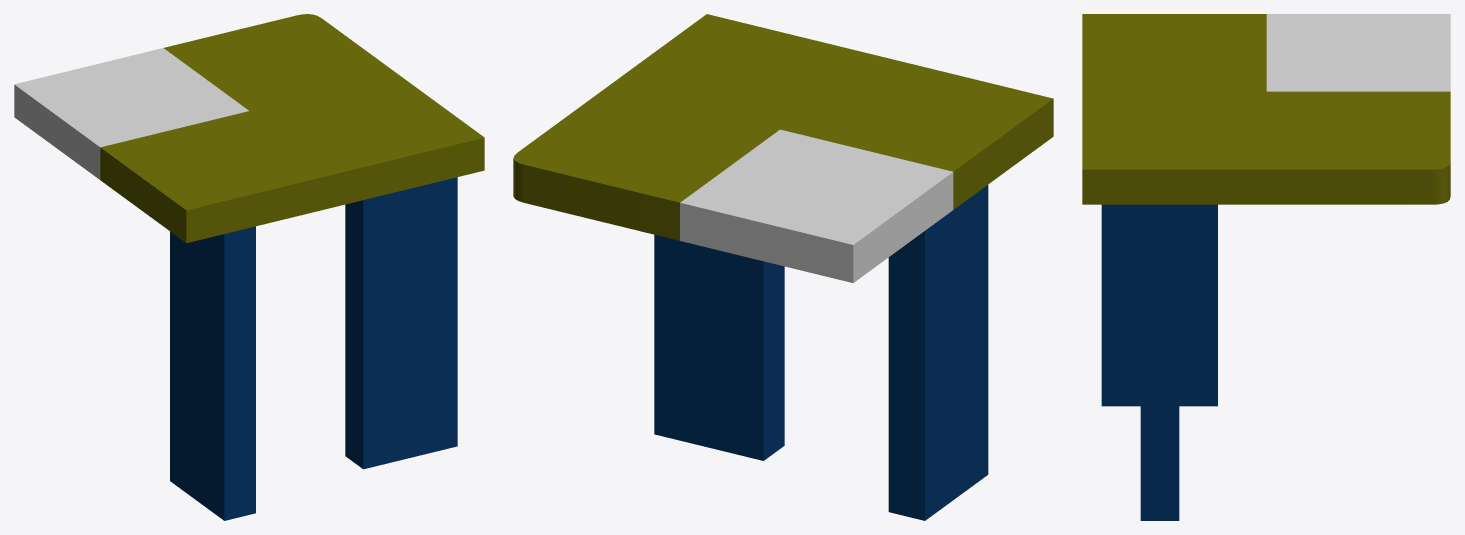
Rendered from T6DirB.fbx.
The picture shows the model from 3 angles, left to right: view 1: azimuth 30°, elevation 25°; view 2: azimuth 150°, elevation 25°; view 3: azimuth 270°, elevation 25°; orthographic projection. The views are drawn at different scales.
Visible parts, largest first — view 1: 1, 3, 4, 2; view 2: 3, 1, 4, 2; view 3: 1, 3, 2, 4.
Boxes of the visible parts, x1,y1,x2,y2 form: 1: (250, 74, 484, 469); 3: (100, 111, 335, 520); 4: (14, 48, 248, 179); 2: (164, 14, 398, 110); 3: (780, 56, 1053, 520); 1: (607, 14, 879, 460); 4: (680, 129, 953, 282); 2: (513, 87, 779, 240); 1: (1082, 91, 1266, 520); 3: (1082, 14, 1266, 406); 2: (1266, 91, 1450, 204); 4: (1266, 14, 1450, 91).
Size of the model in its own units: 190 by 200 by 190.
